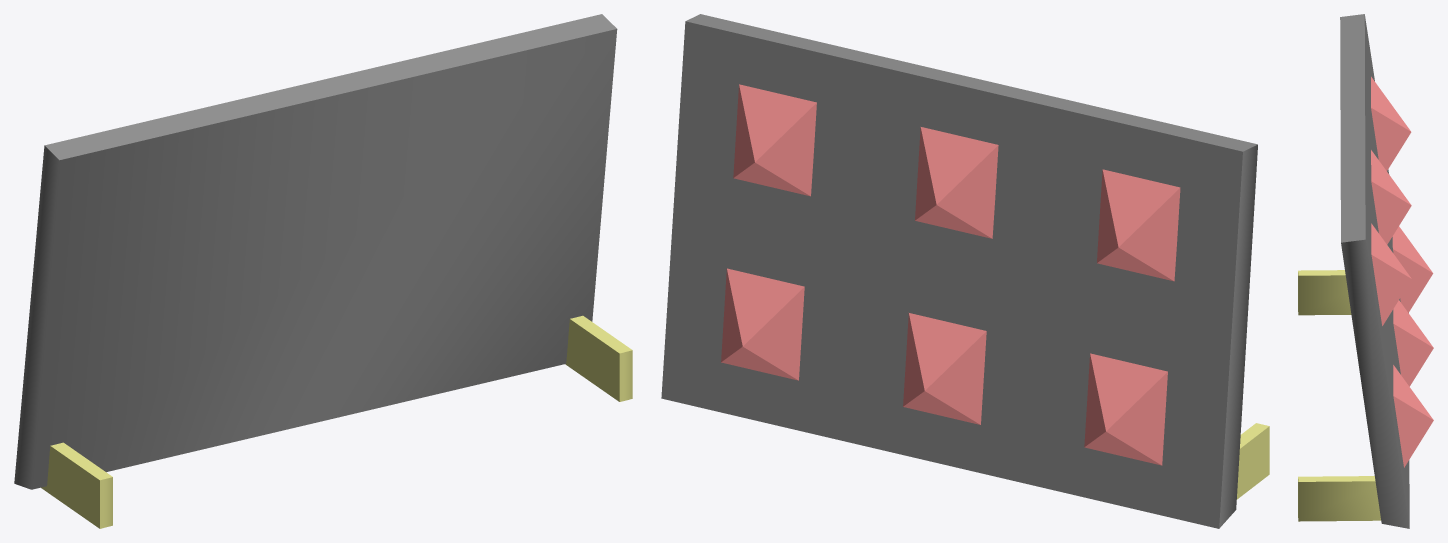
File: L2fortress_02_s__Fort02_protection.gltf
The picture shows the model from 3 angles, left to right: view 1: azimuth 30°, elevation 25°; view 2: azimuth 150°, elevation 25°; view 3: azimuth 270°, elevation 25°; orthographic projection. The views are drawn at different scales.
Visible parts, largest first — view 1: Fort02_protection; view 2: Fort02_protection; view 3: Fort02_protection.
Boxes of the visible parts, x1,y1,x2,y2 form: Fort02_protection: [14, 14, 632, 528]; Fort02_protection: [661, 14, 1269, 528]; Fort02_protection: [1298, 14, 1433, 528].
Size of the model in its own units: 2.1 by 1.3 by 0.5411.
